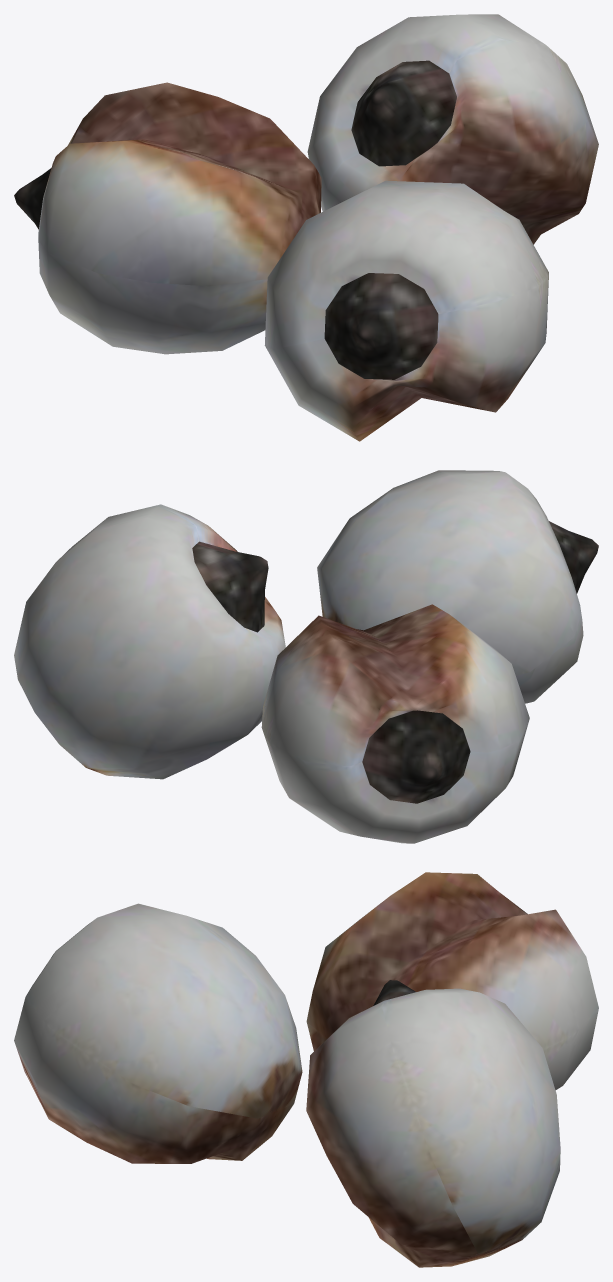
File: yiyiren.FBX
The picture shows the model from 3 angles, top to bottom: view 1: azimuth 30°, elevation 25°; view 2: azimuth 150°, elevation 25°; view 3: azimuth 270°, elevation 25°; orthographic projection. The views are drawn at different scales.
Parts seen in each view (by area): view 1: Sphere001, Sphere003, Sphere002; view 2: Sphere002, Sphere001, Sphere003; view 3: Sphere003, Sphere002, Sphere001.
Boxes of the visible parts, x1=… form: Sphere001: x1=14, y1=82, x2=321, y2=354; Sphere003: x1=264, y1=180, x2=548, y2=441; Sphere002: x1=307, y1=14, x2=598, y2=244; Sphere002: x1=14, y1=504, x2=285, y2=779; Sphere001: x1=261, y1=604, x2=529, y2=843; Sphere003: x1=317, y1=470, x2=598, y2=703; Sphere003: x1=14, y1=903, x2=302, y2=1163; Sphere002: x1=306, y1=980, x2=560, y2=1267; Sphere001: x1=306, y1=872, x2=598, y2=1090.
Bounding box in the file's own units: 483 × 236 × 479.
Materials: 1 (1 with a texture image).
